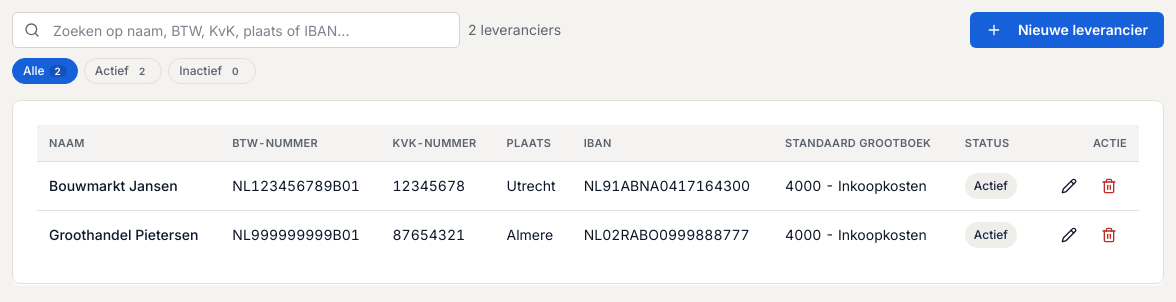
Test: Leveranciers pagina › zoekt op BTW-nummer
Type "NL123456789B01" into the field named "Zoeken in leveranciers" at (236, 30), box [12, 12, 460, 48]
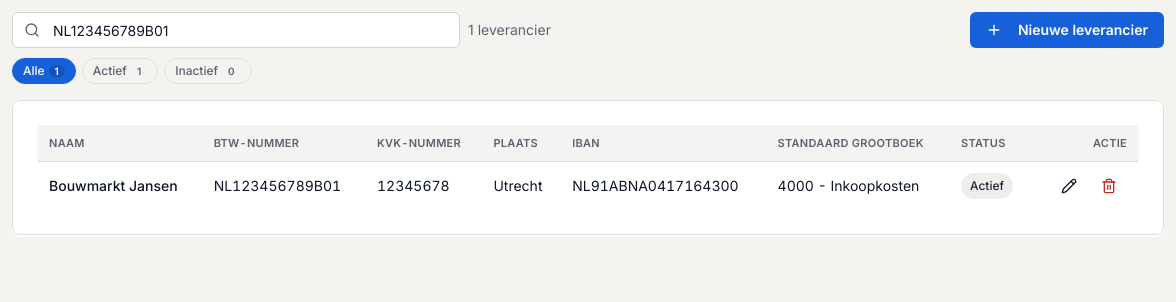
Expected: the text "Bouwmarkt Jansen" is shown, [49, 176, 190, 196]
Expected: the text "Groothandel Pietersen" is gone
